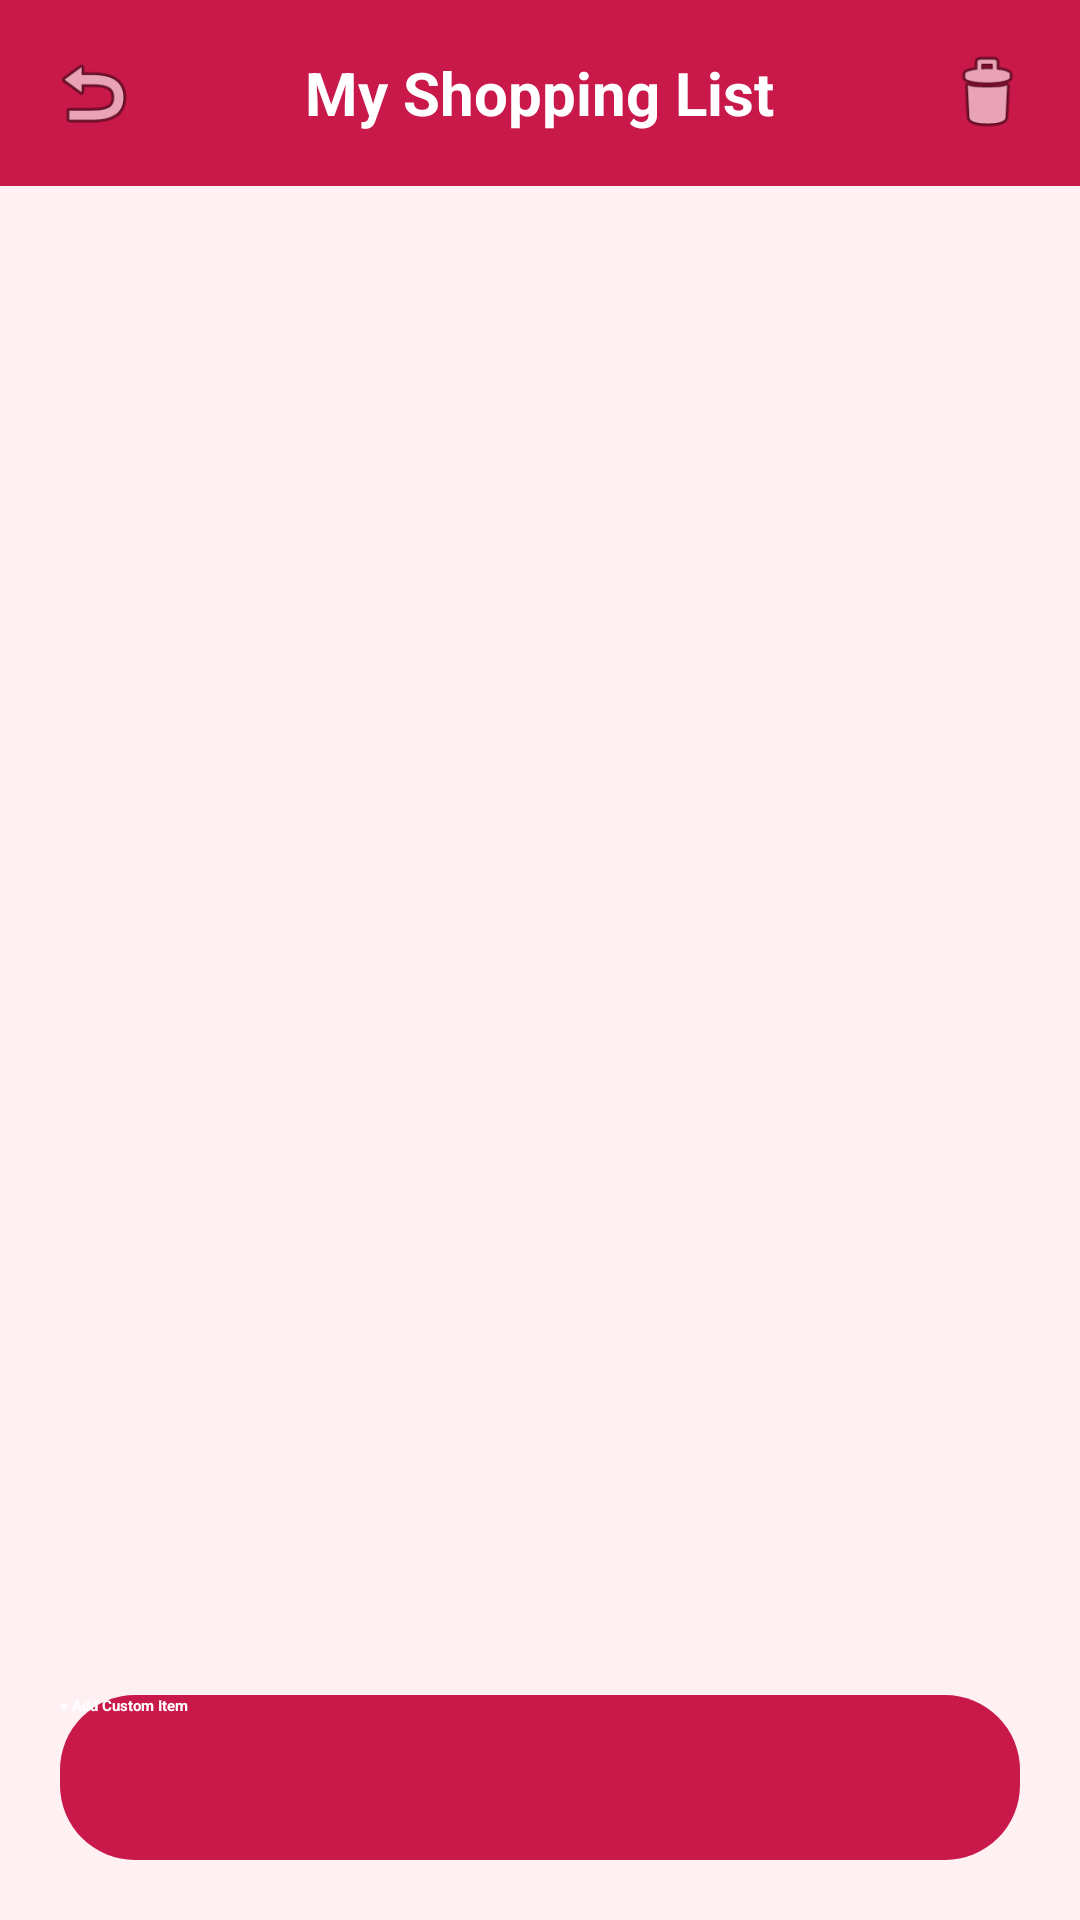

Icons on this 1080x1920 Android screen, each with the point to tap as [x,y]:
delete: [987,91]
revert: [94,93]
